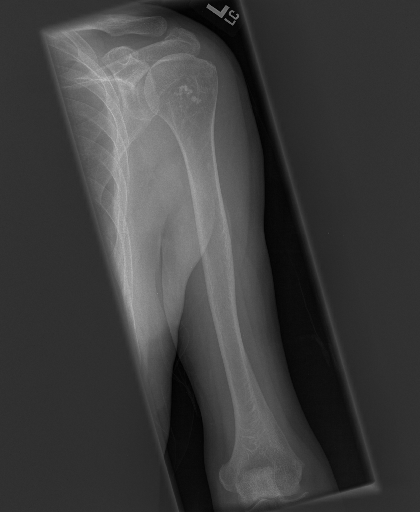fracture: (193, 194, 238, 277)
